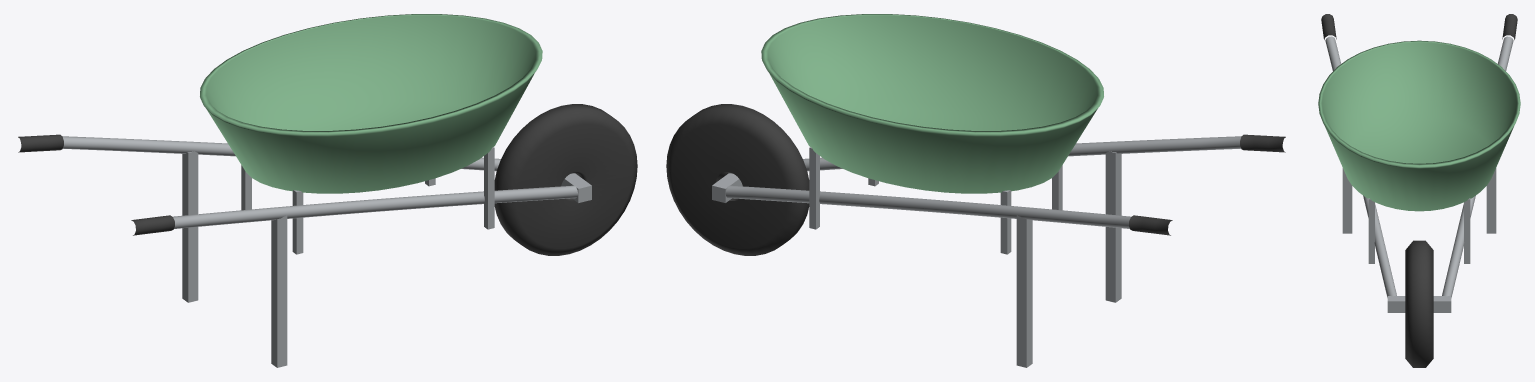
3 views of the same model, side by side, from view 1: azimuth 30°, elevation 25°; view 2: azimuth 150°, elevation 25°; view 3: azimuth 270°, elevation 25° (orthographic). The views are drawn at different scales.
Parts seen in each view (by area): view 1: Wheelbarrow; view 2: Wheelbarrow; view 3: Wheelbarrow.
Part boxes in pixels (x1,y1,x2,y2): Wheelbarrow: (18,14,637,367); Wheelbarrow: (666,14,1285,367); Wheelbarrow: (1318,14,1520,367).
Size of the model in its own units: 1.64 by 0.632 by 0.6365.
